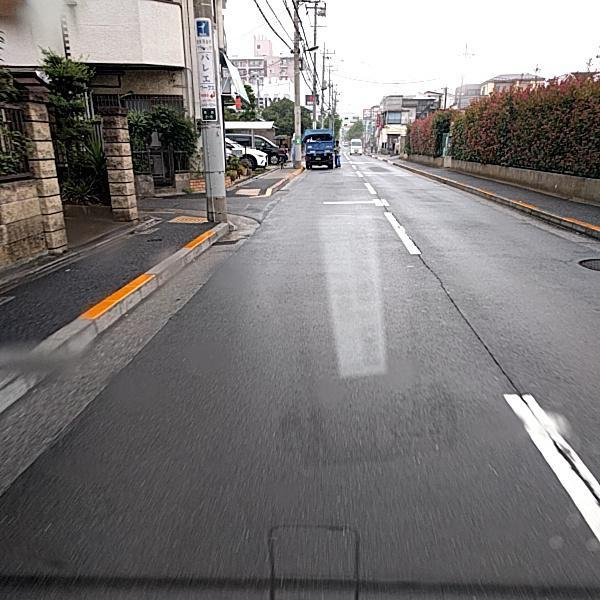D50: (579, 255, 599, 270)
